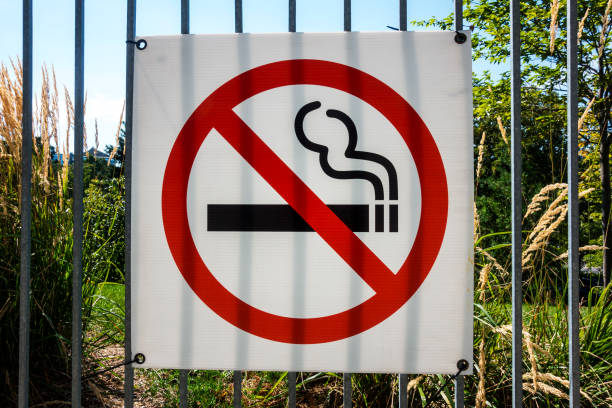cigarette: (204, 200, 401, 233)
